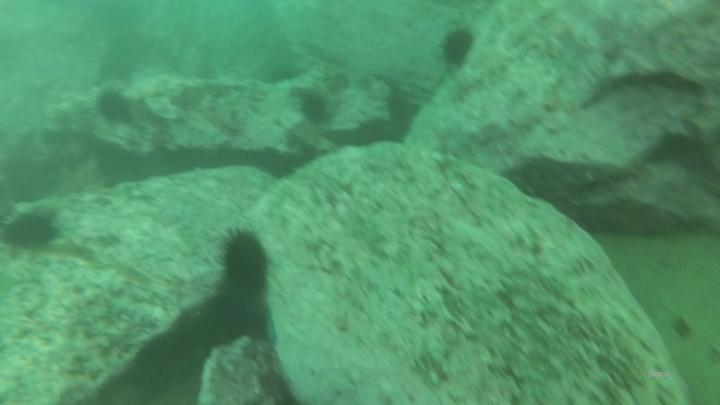echinus: (224, 237, 268, 295), (5, 215, 50, 248), (98, 94, 129, 124), (444, 31, 470, 65), (300, 94, 327, 123)
